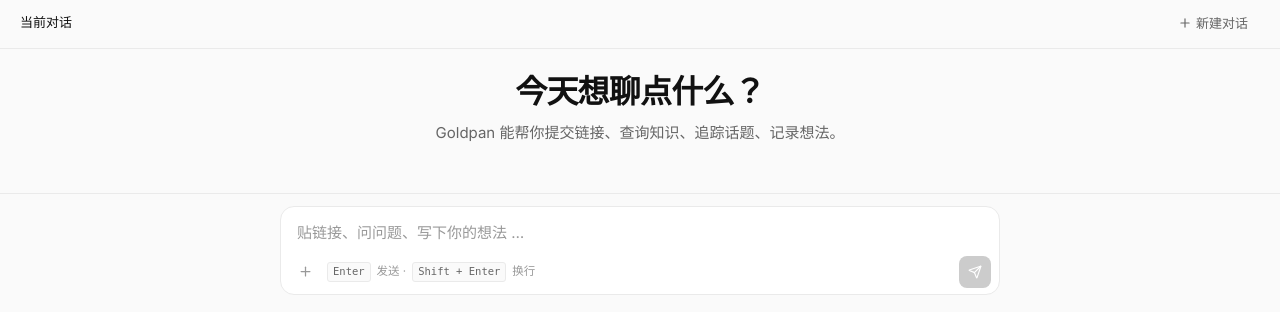
Test case: ChatView integration › note result without noteSubtype falls through to error bubble (not empty span)
Type "broken note" into the text box.
click(640, 228); type("broken note")  # box left=281, top=207, right=999, bottom=250
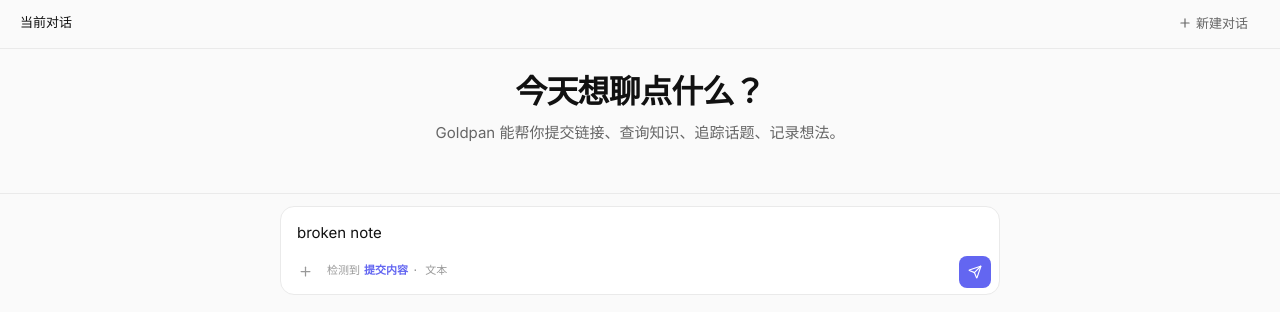
Submit the form, box left=280, top=206, right=1000, bottom=295
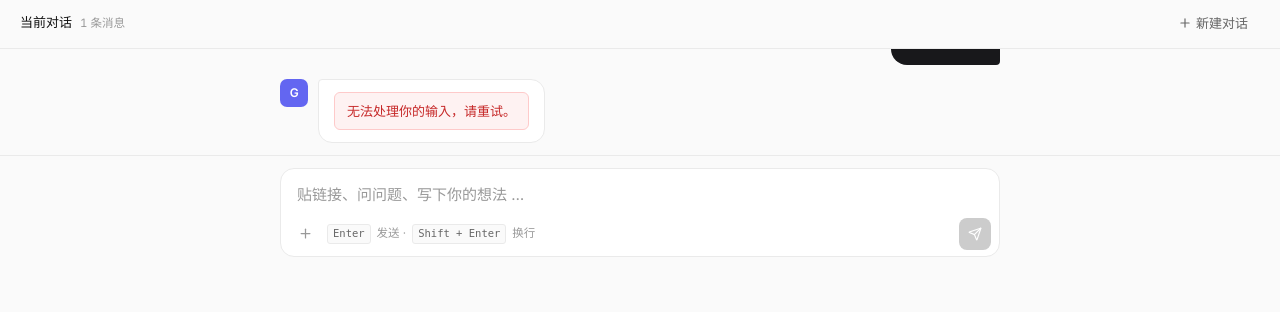
Check: the text "无法处理你的输入，请重试。" is shown, box left=347, top=103, right=516, bottom=119
